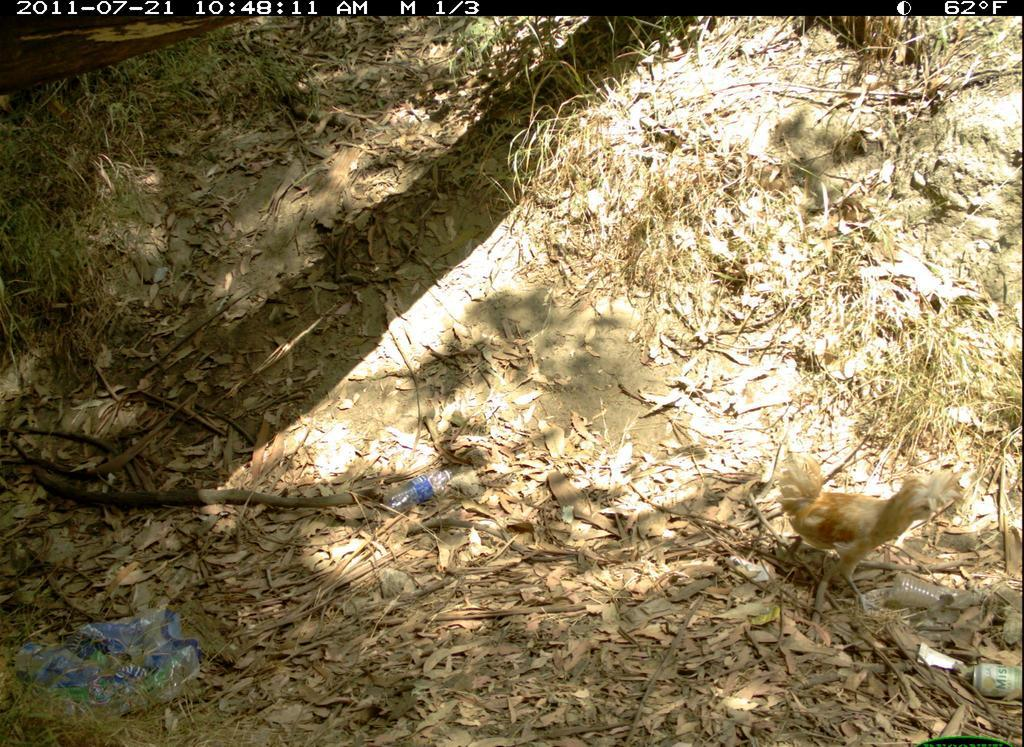bird: (757, 438, 964, 635)
